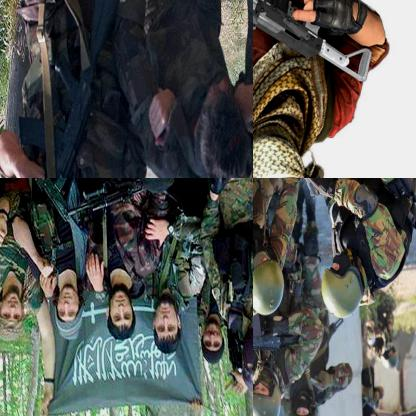pistol: (294, 178, 331, 198)
rifle: (0, 0, 118, 177), (253, 0, 377, 86), (0, 178, 84, 232), (61, 178, 156, 223), (253, 309, 302, 357)
